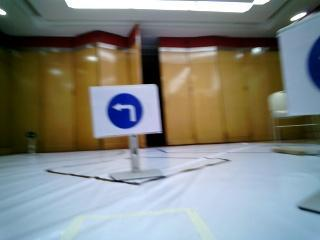left: (95, 87, 160, 134)
